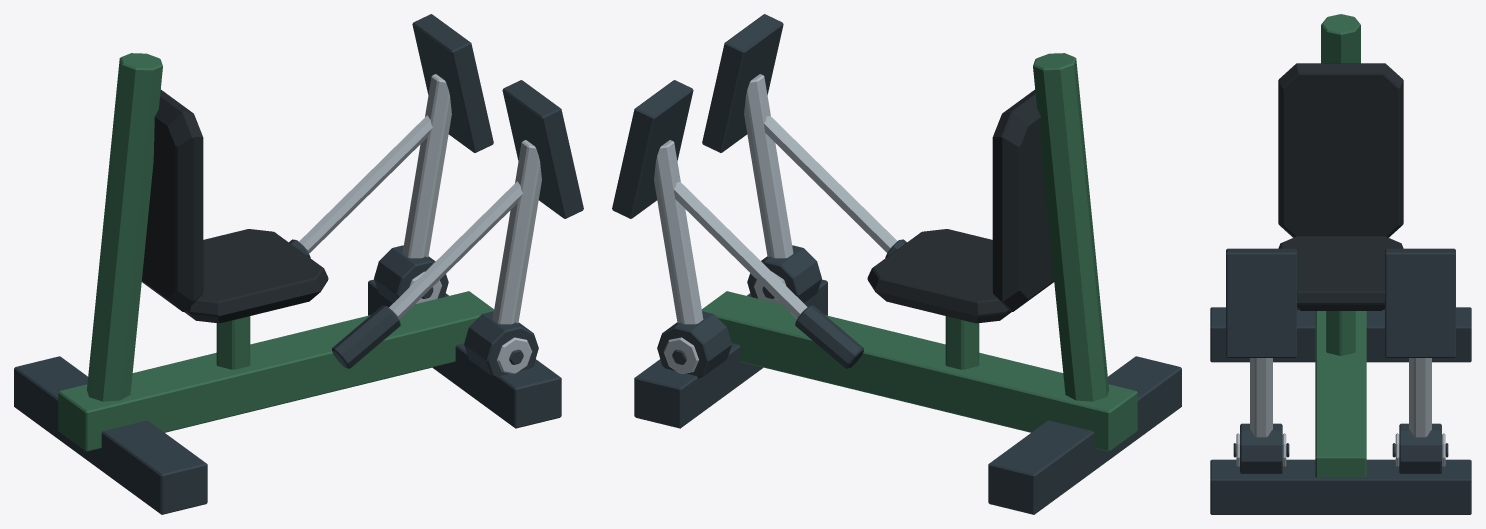
The model's file is b09_seated_leg_press.glb.
The picture shows the model from 3 angles, left to right: view 1: azimuth 30°, elevation 25°; view 2: azimuth 150°, elevation 25°; view 3: azimuth 270°, elevation 25°; orthographic projection. The views are drawn at different scales.
Parts seen in each view (by area): view 1: b09_seated_leg_press; view 2: b09_seated_leg_press; view 3: b09_seated_leg_press.
Part boxes in pixels (box(x1,y1,x2,y2)): b09_seated_leg_press: box(14, 14, 583, 514); b09_seated_leg_press: box(612, 14, 1181, 514); b09_seated_leg_press: box(1210, 14, 1471, 514).
Size of the model in its own units: 1.61 by 1.34 by 0.92.
